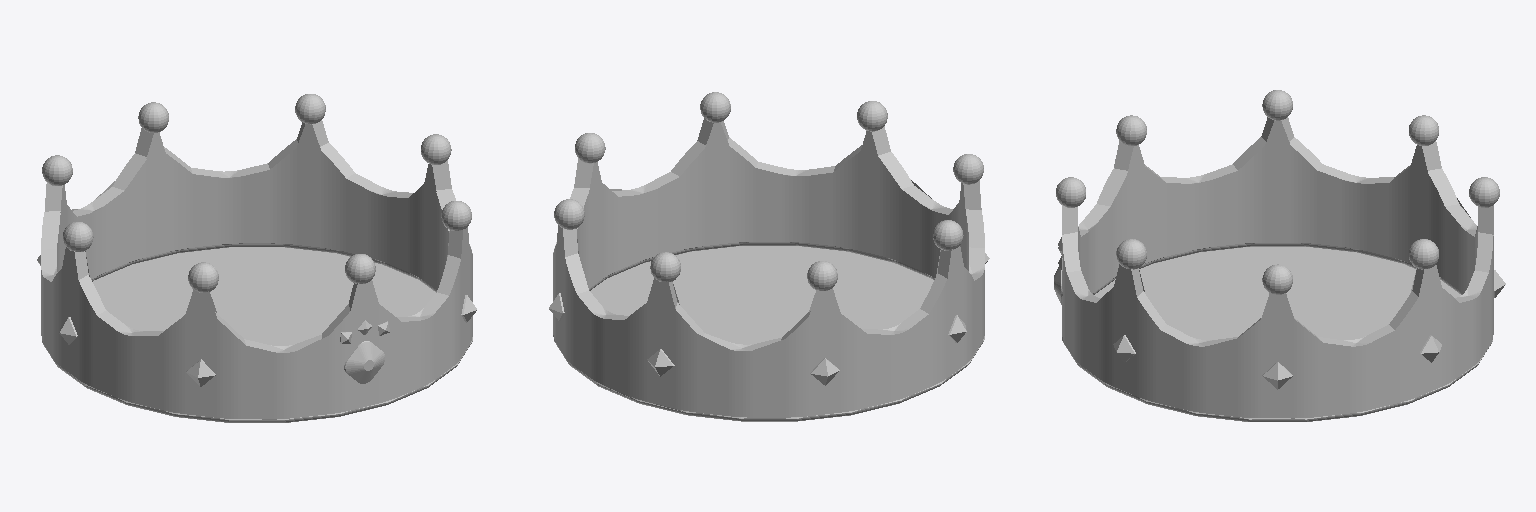
File: crown.obj
3 views of the same model, side by side, from view 1: azimuth 30°, elevation 25°; view 2: azimuth 150°, elevation 25°; view 3: azimuth 270°, elevation 25° (orthographic).
Visible parts, largest first — view 1: おうかん, 立方体, 球.002, 球.001, 球, 球.003, 球.005, 球.007, 球.006, 球.004; view 2: おうかん, 球.005, 球.007, 球.006, 球.004, 球.001, 球, 球.002, 球.003; view 3: おうかん, 球.003, 球.007, 球.004, 球.005, 球.006, 球.001, 球.002, 球.
Part boxes in pixels (left/top/right/bottom): おうかん: left=41, top=120, right=472, bottom=422; 立方体: left=344, top=341, right=384, bottom=383; 球.002: left=42, top=155, right=72, bottom=185; 球.001: left=295, top=94, right=325, bottom=124; 球: left=421, top=134, right=451, bottom=164; 球.003: left=138, top=102, right=168, bottom=132; 球.005: left=345, top=254, right=375, bottom=283; 球.007: left=188, top=262, right=218, bottom=292; 球.006: left=441, top=201, right=471, bottom=230; 球.004: left=63, top=222, right=93, bottom=251; おうかん: left=553, top=118, right=984, bottom=421; 球.005: left=857, top=101, right=887, bottom=131; 球.007: left=953, top=154, right=983, bottom=184; 球.006: left=700, top=92, right=730, bottom=122; 球.004: left=933, top=220, right=963, bottom=250; 球.001: left=554, top=199, right=584, bottom=229; 球: left=575, top=133, right=605, bottom=163; 球.002: left=807, top=261, right=837, bottom=290; 球.003: left=650, top=252, right=680, bottom=281; おうかん: left=1062, top=117, right=1493, bottom=421; 球.003: left=1469, top=177, right=1499, bottom=207; 球.007: left=1116, top=115, right=1146, bottom=145; 球.004: left=1262, top=90, right=1292, bottom=120; 球.005: left=1056, top=177, right=1085, bottom=207; 球.006: left=1116, top=239, right=1146, bottom=269; 球.001: left=1409, top=239, right=1438, bottom=269; 球.002: left=1409, top=115, right=1438, bottom=145; 球: left=1262, top=264, right=1292, bottom=294.
Bounding box in the file's own units: 7.35 × 2.75 × 7.28.